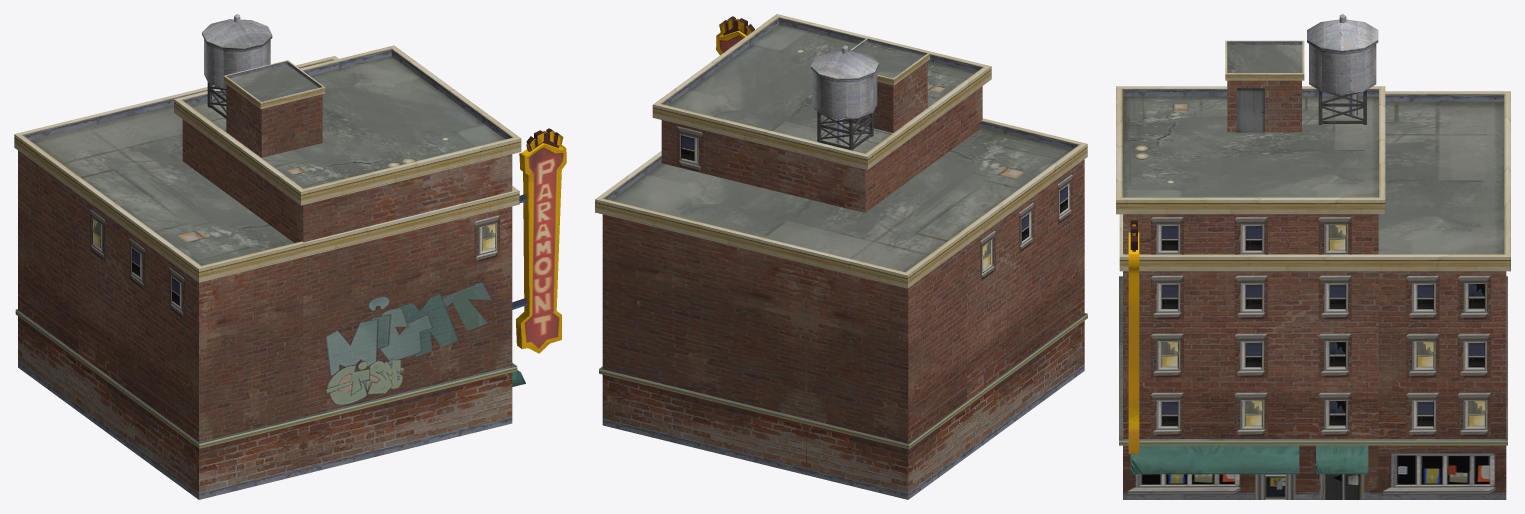
The model's file is paramount.glb.
The picture shows the model from 3 angles, left to right: view 1: azimuth 30°, elevation 25°; view 2: azimuth 150°, elevation 25°; view 3: azimuth 270°, elevation 25°; orthographic projection. The views are drawn at different scales.
Visible parts, largest first — view 1: paramount; view 2: paramount; view 3: paramount.
Part boxes in pixels (x1=…): paramount: x1=14, y1=14, x2=566, y2=499; paramount: x1=595, y1=14, x2=1087, y2=499; paramount: x1=1116, y1=14, x2=1510, y2=499.
Size of the model in its own units: 21.36 by 20.59 by 18.54.
Materials: 1 (1 with a texture image).
